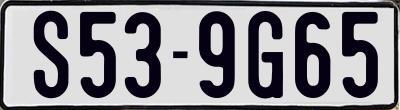3: (122, 10, 159, 98)
5: (339, 9, 379, 96), (78, 9, 117, 97)
6: (294, 12, 334, 104)
9: (198, 11, 235, 99)
G: (247, 10, 282, 99)
S: (33, 8, 71, 97)
